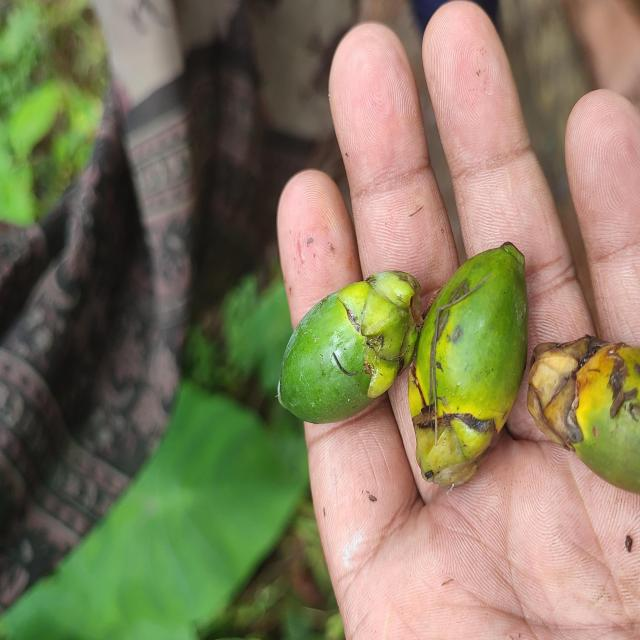damaged: (405, 243, 530, 491), (277, 272, 420, 426), (527, 337, 640, 498)
